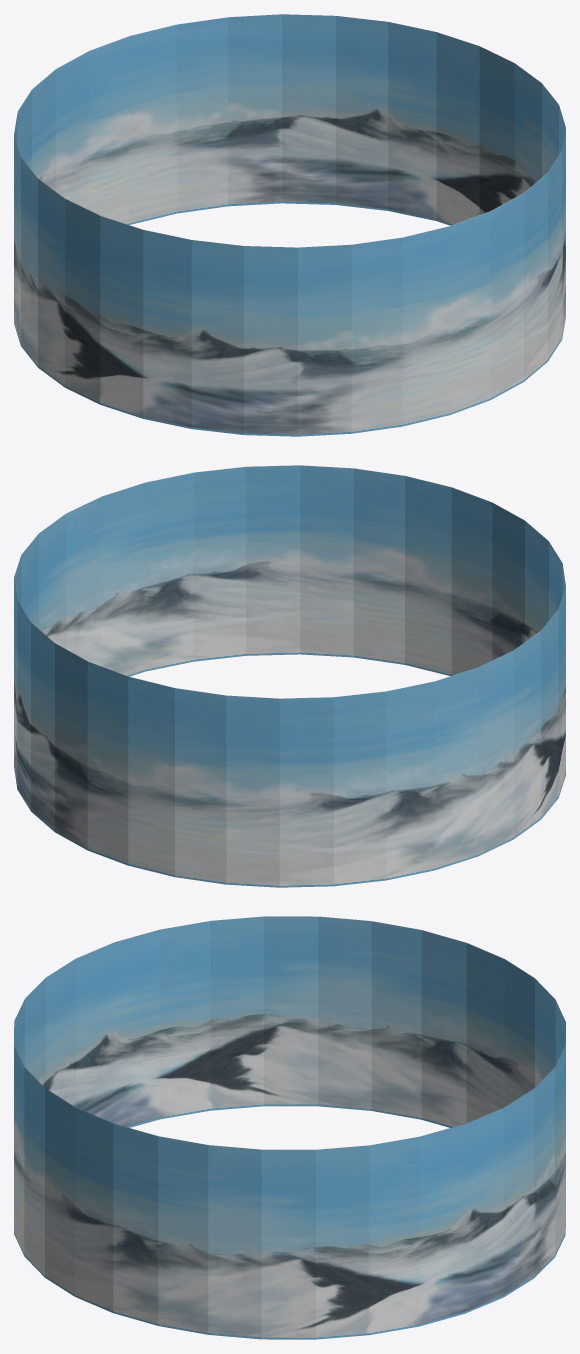
File: BACKGROUND SKI GAME.fbx
3 renders of one model, top to bottom at view 1: azimuth 30°, elevation 25°; view 2: azimuth 150°, elevation 25°; view 3: azimuth 270°, elevation 25°, orthographic.
Visible parts, largest first — view 1: Cylinder; view 2: Cylinder; view 3: Cylinder.
Part boxes in pixels (x1,y1,x2,y2): Cylinder: (14,14,565,436); Cylinder: (14,465,565,887); Cylinder: (14,916,565,1339).
Size of the model in its own units: 45649 by 17326 by 45649.
